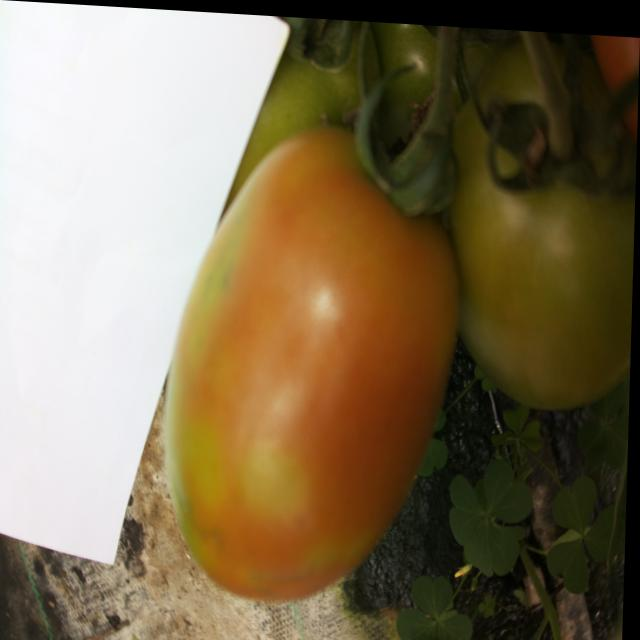sari: (177, 156, 451, 609)
